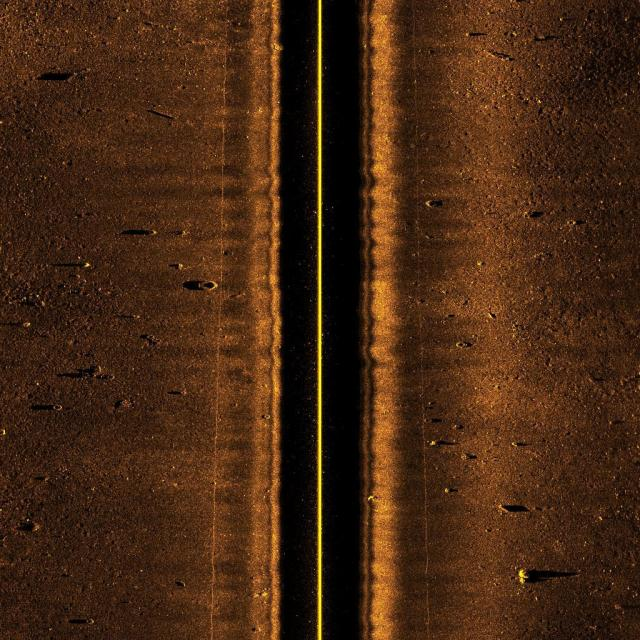mine: (37, 71, 79, 83), (143, 107, 178, 121), (495, 503, 530, 513)
other: (520, 566, 580, 592), (182, 276, 223, 296), (28, 402, 68, 414), (568, 216, 580, 232), (426, 412, 434, 426)
